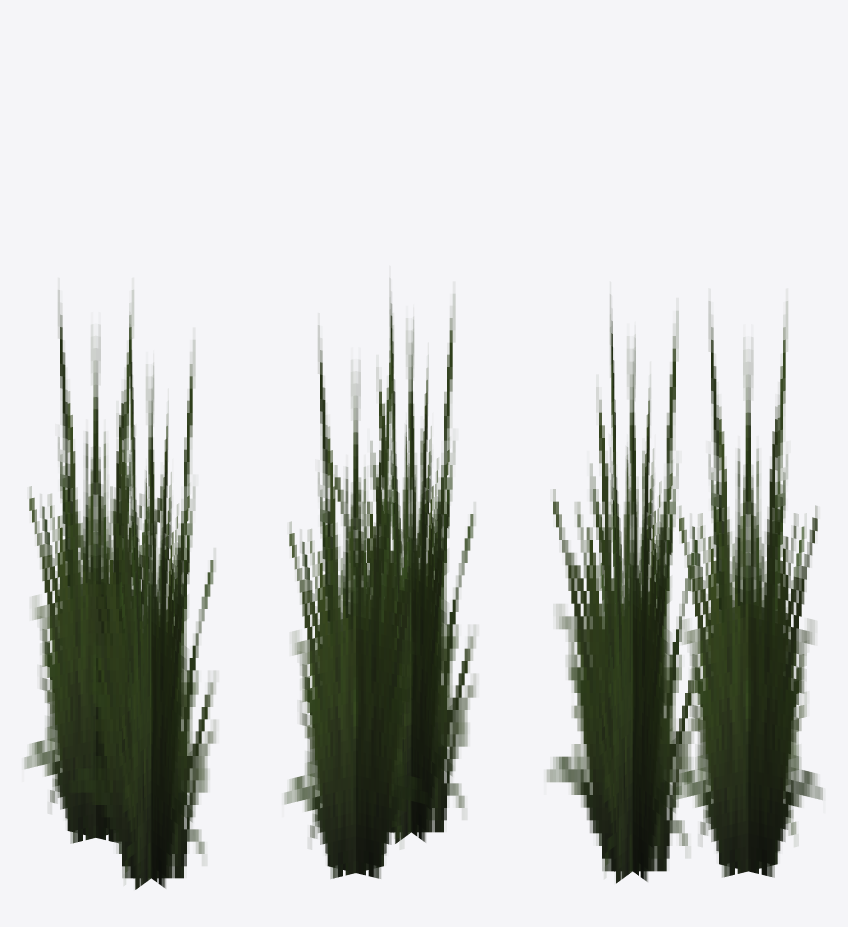
File: tall grass.glb
The picture shows the model from 3 angles, left to right: view 1: azimuth 30°, elevation 25°; view 2: azimuth 150°, elevation 25°; view 3: azimuth 270°, elevation 25°; orthographic projection. The views are drawn at different scales.
Parts seen in each view (by area): view 1: Tall Grass; view 2: Tall Grass; view 3: Tall Grass.
Boxes of the visible parts, bbox=[...] form: Tall Grass: bbox=[24, 290, 215, 889]; Tall Grass: bbox=[284, 290, 475, 878]; Tall Grass: bbox=[547, 294, 822, 883].
Size of the model in its own units: 1 by 4.58 by 1.52.
Materials: 1 (1 with a texture image).
